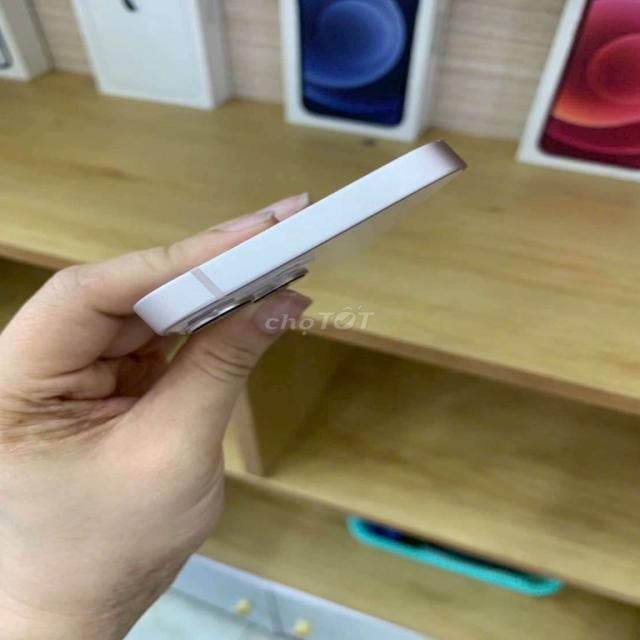gen_12_13: (130, 133, 471, 343)
